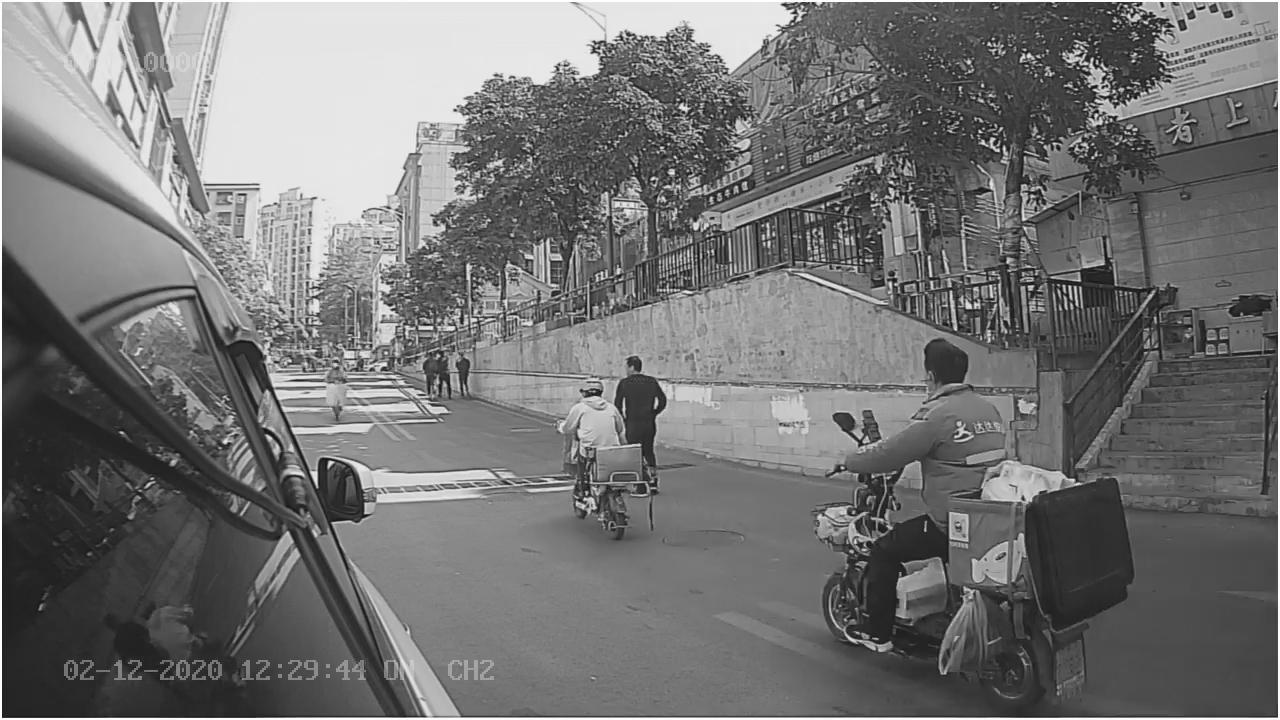person: (835, 329, 1003, 469)
